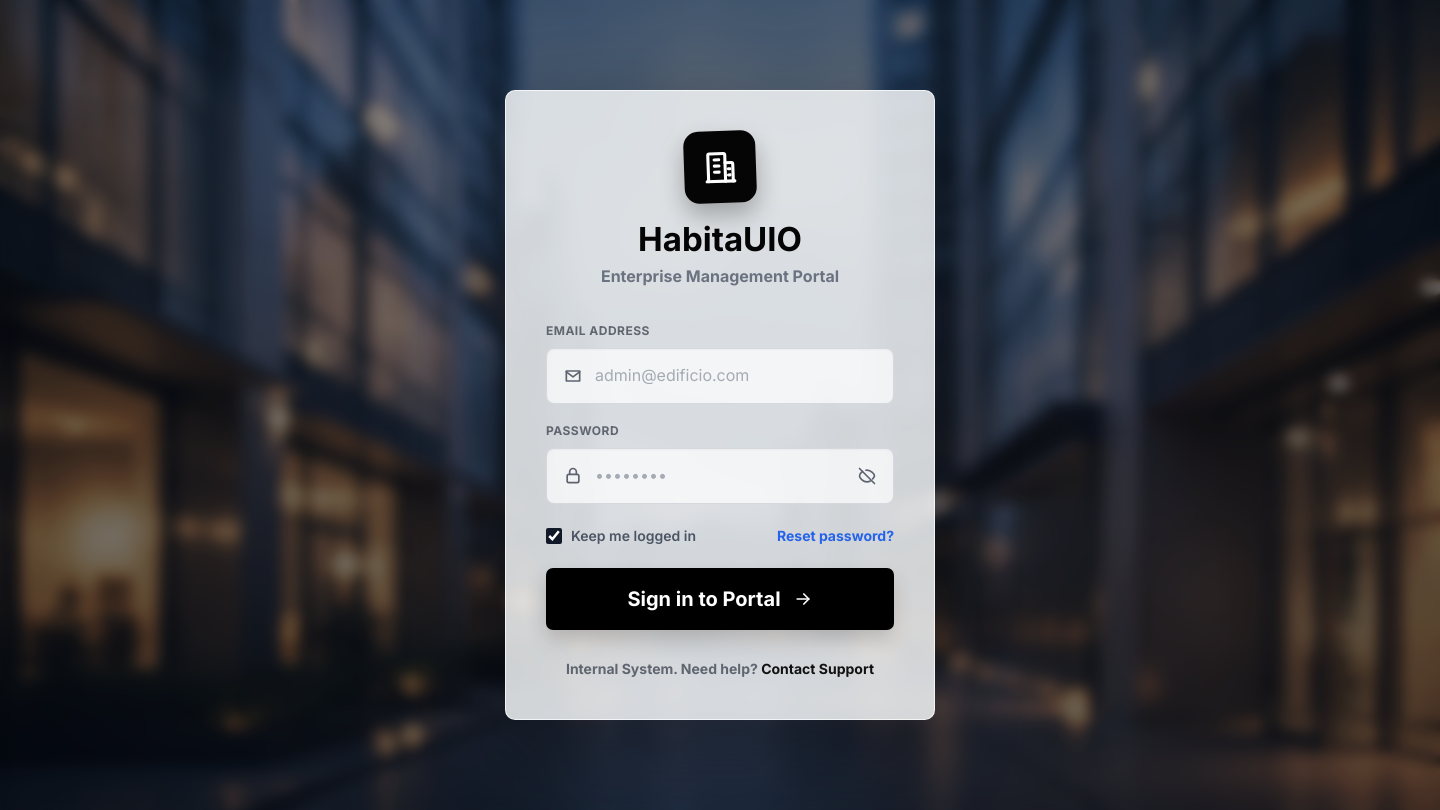
Test: LoginPage › test_LoginPage_display_error_invalid_credentials › deve exibir erro message ao falhar login com credenciais inválidas
The width and height of the screenshot is (1440, 810).
Type "admin@edificios.com" into the field with placeholder "admin@edificio.com".
click(737, 376); type("admin@edificios.com")  # box [595,364,879,387]
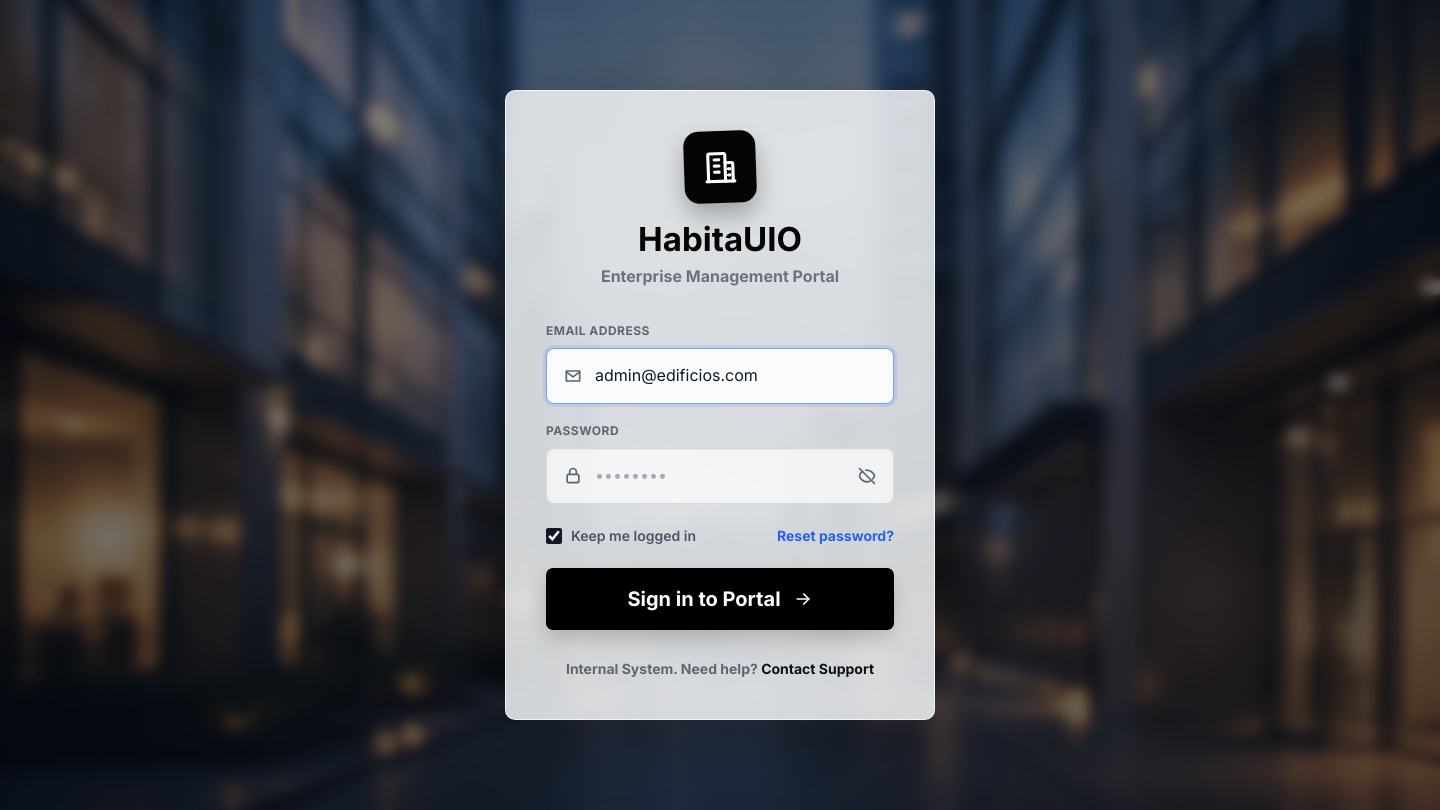
Type "WrongPassword" into the password field with placeholder "••••••••".
click(720, 476); type("WrongPassword")  # box [595,464,845,487]
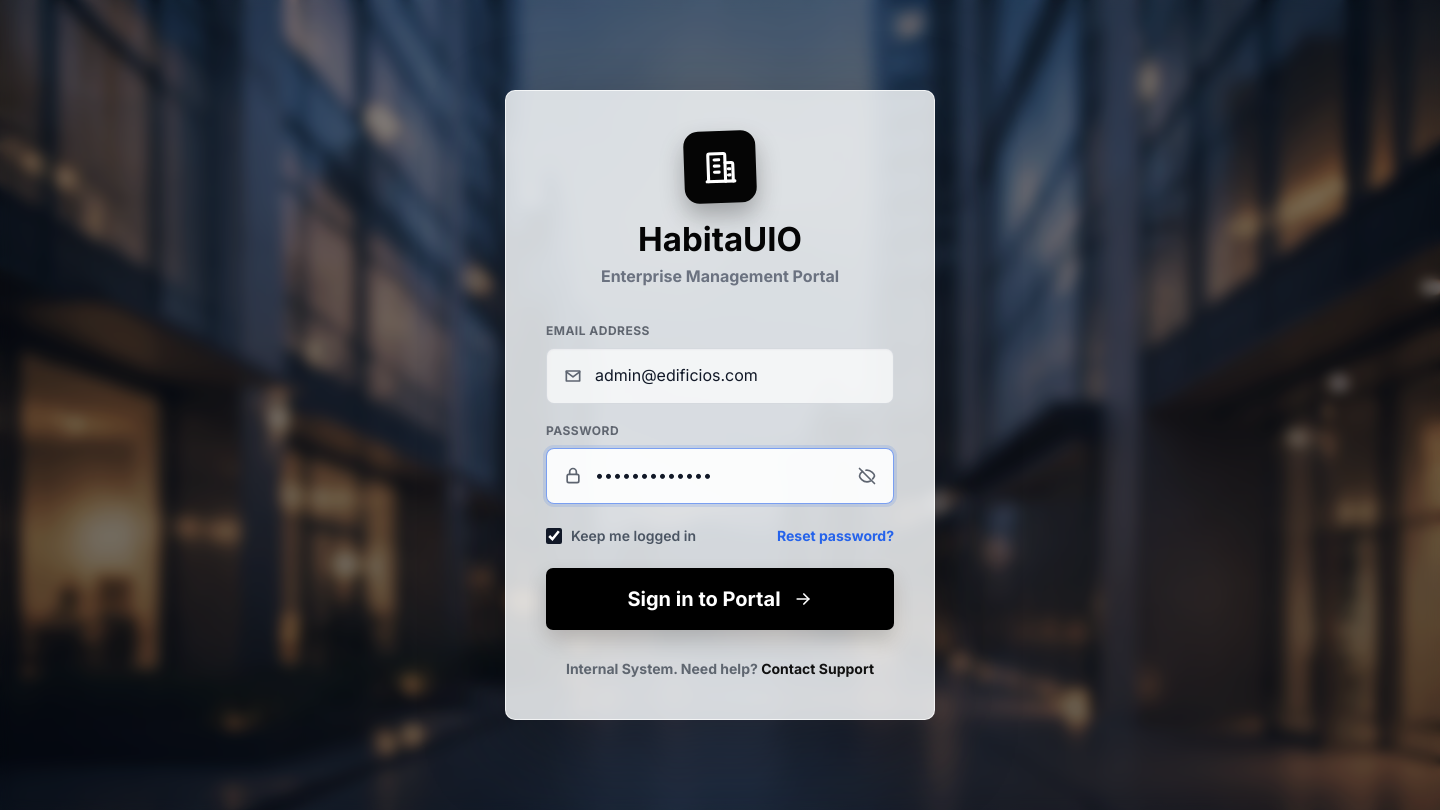
Click the button "Sign in to Portal".
click(720, 599)  # box [546,568,894,630]
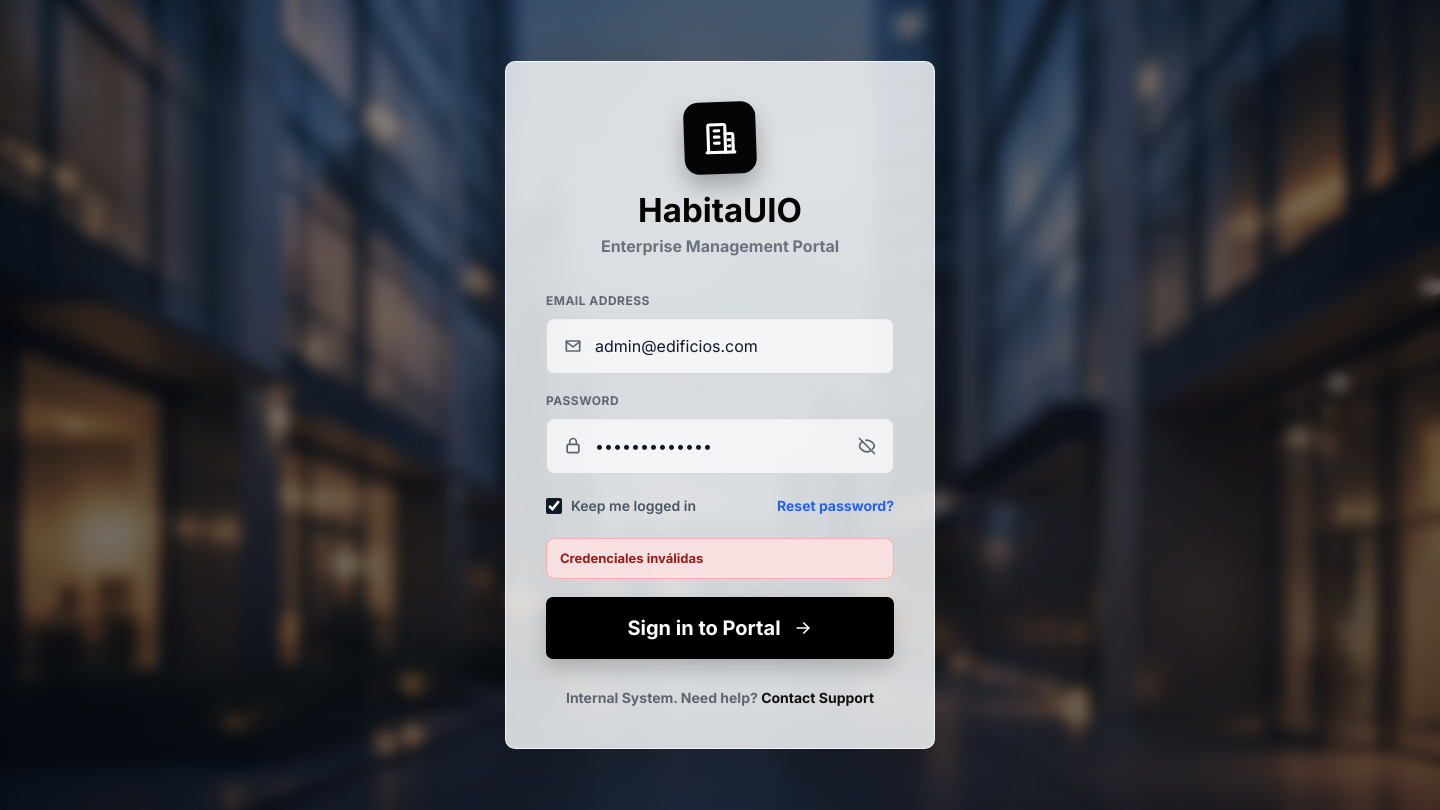
Check: the text "Credenciales inválidas" is shown, box [546,538,894,579]
